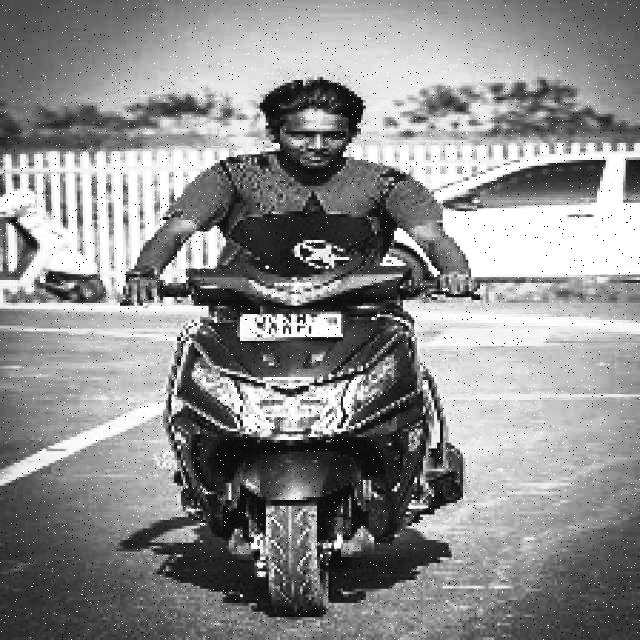Bike: (143, 242, 454, 612)
